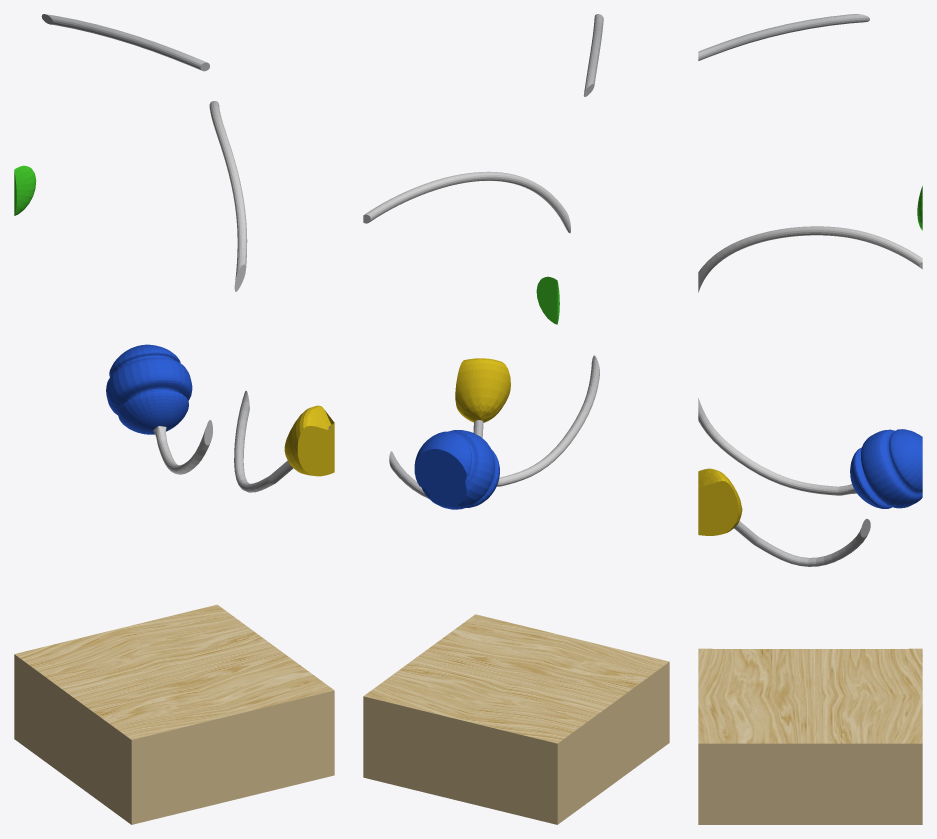
File: 4_Motorikschleife subdiv.fbx
3 renders of one model, left to right at view 1: azimuth 30°, elevation 25°; view 2: azimuth 150°, elevation 25°; view 3: azimuth 270°, elevation 25°, orthographic. The views are drawn at different scales.
Parts seen in each view (by area): view 1: Cube.004; view 2: Cube.004; view 3: Cube.004.
Boxes of the visible parts, left/top/right/bottom form: Cube.004: left=14, top=14, right=334, bottom=824; Cube.004: left=363, top=14, right=669, bottom=824; Cube.004: left=698, top=14, right=922, bottom=824.
Size of the model in its own units: 500 by 1771 by 500.
